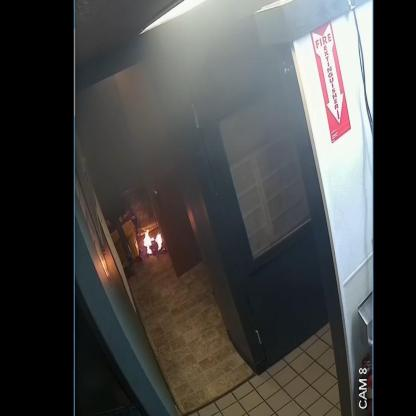fire: (144, 228, 162, 254)
